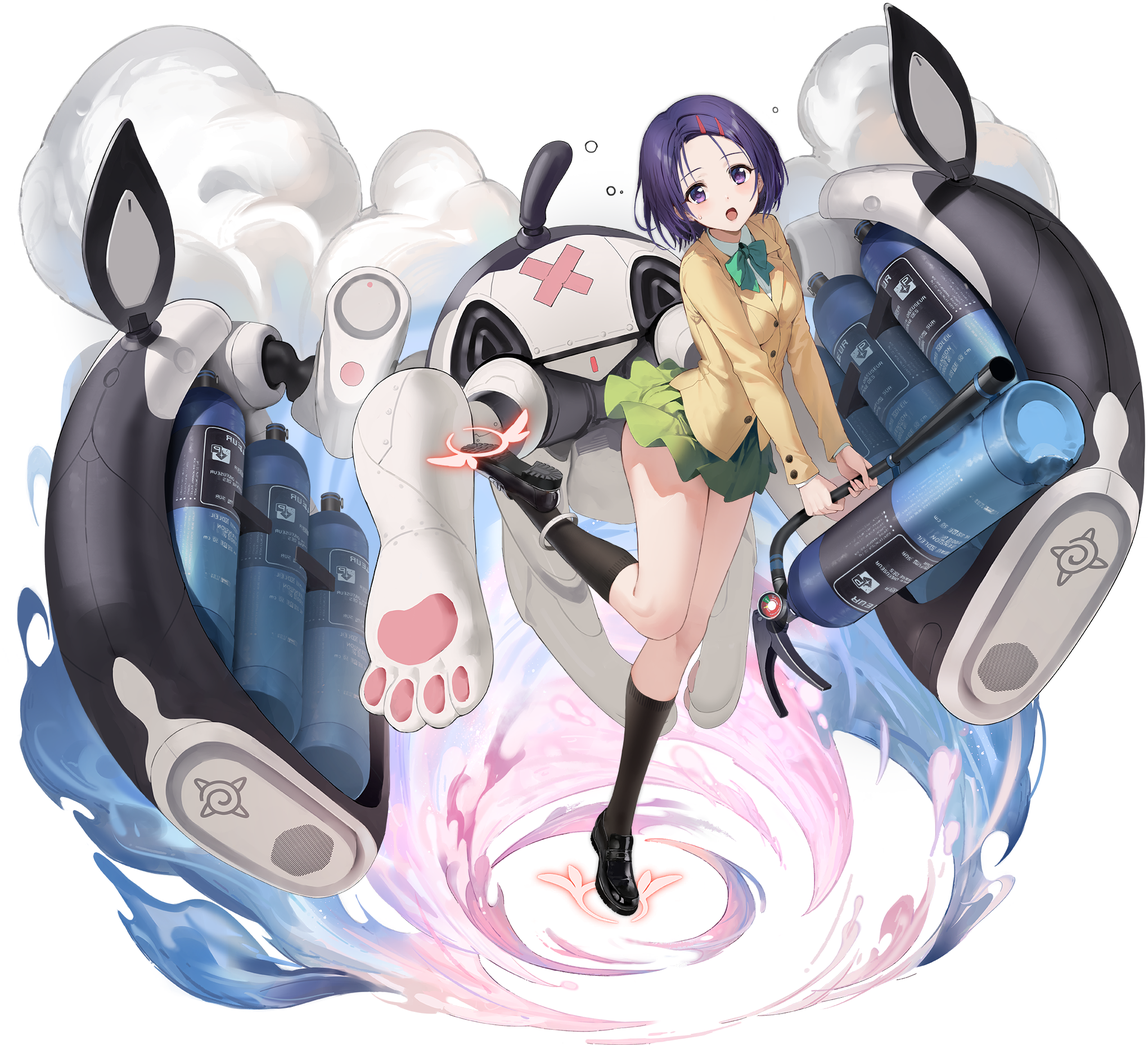person: (13, 70, 1113, 970)
